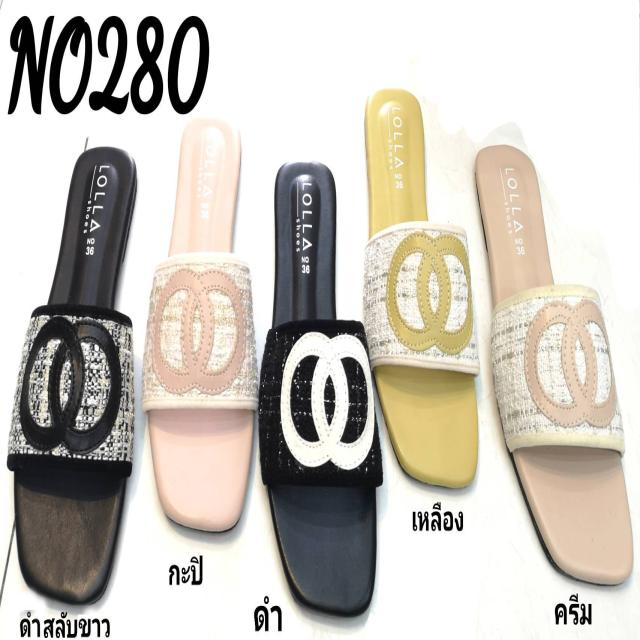black: (263, 164, 380, 614)
cream: (479, 144, 630, 584)
kapi: (148, 112, 258, 526)
white-black: (16, 154, 142, 604)
yellow: (364, 84, 480, 490)
